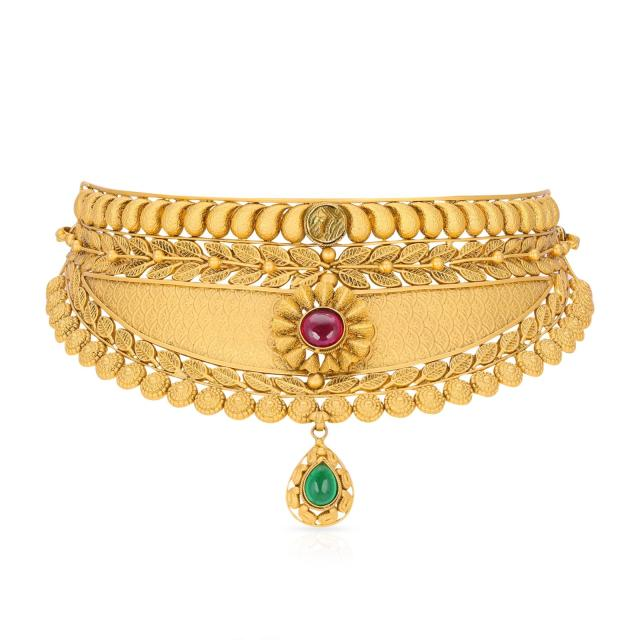missing gem: (308, 205, 344, 242)
